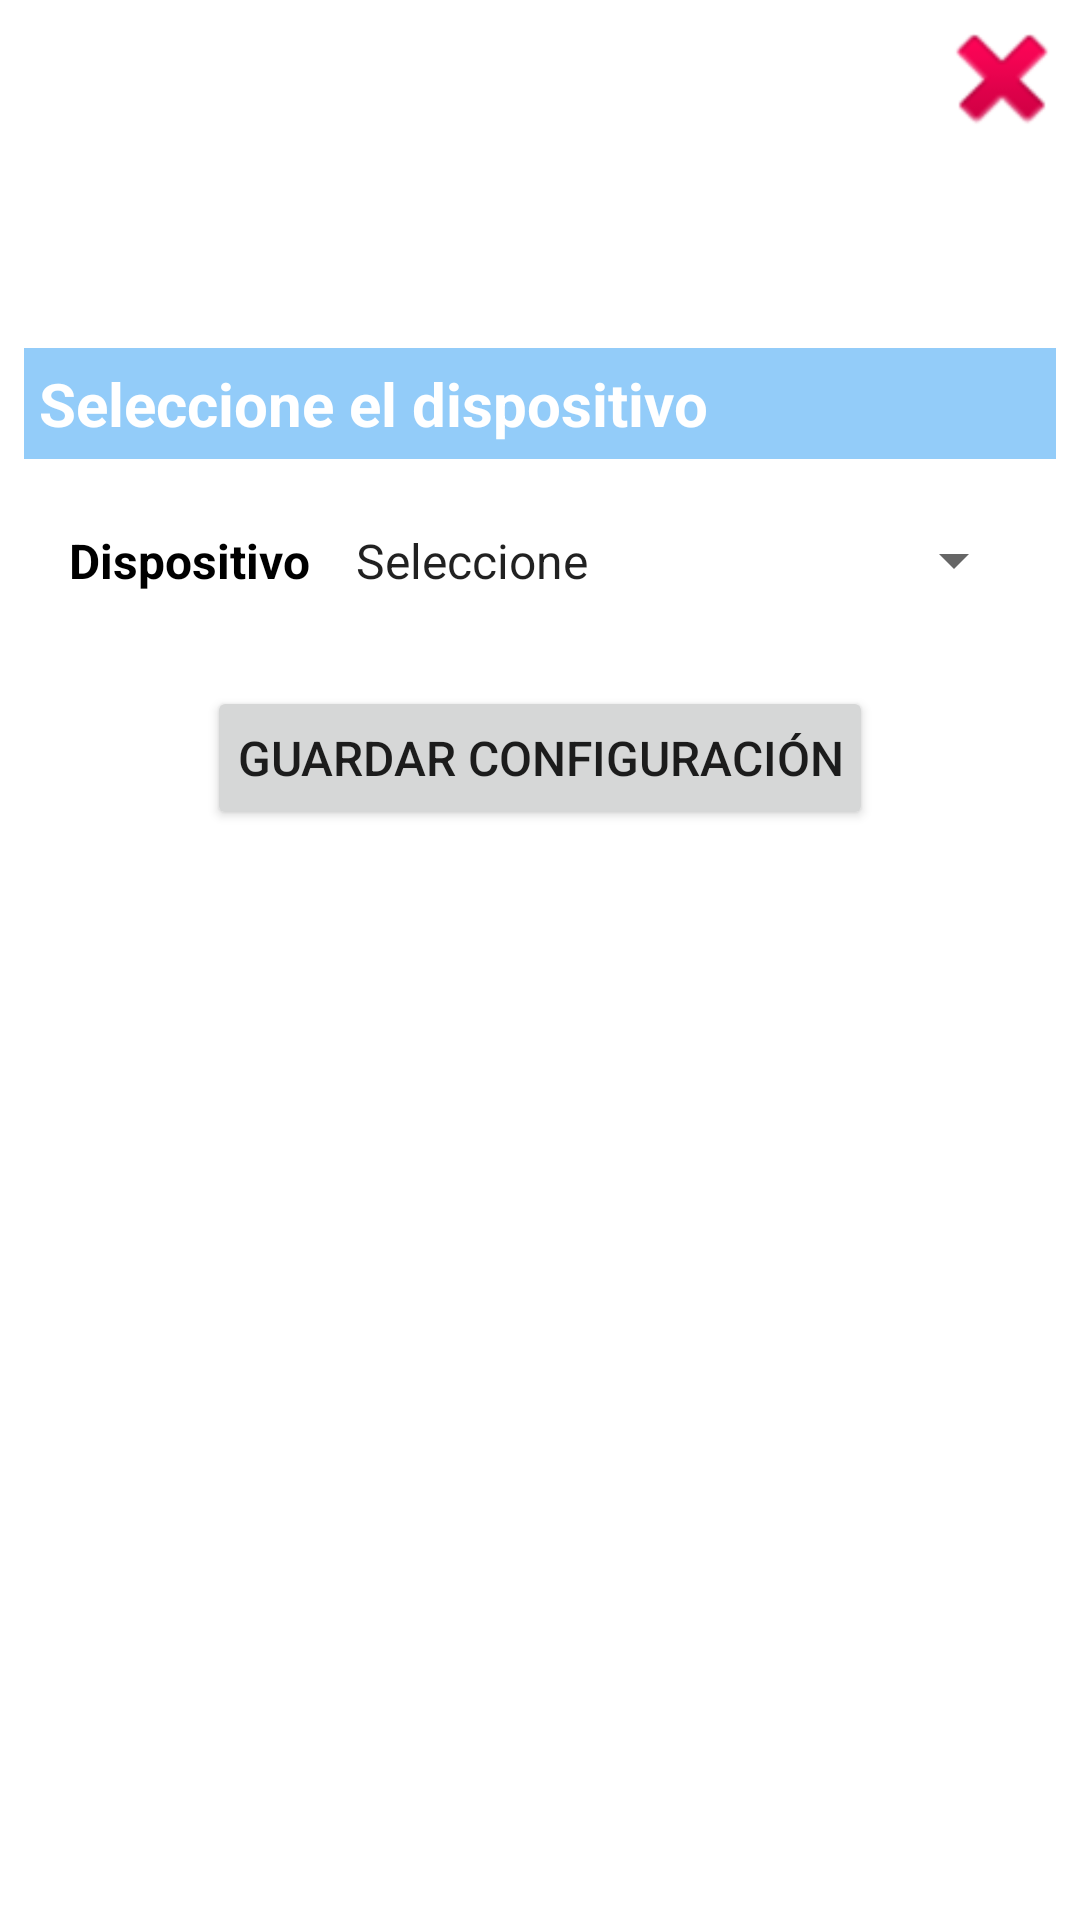

Point at icon controls on the screen. Image size 1080w x 1920h, points as point (x, y).
delete: point (1002, 78)
